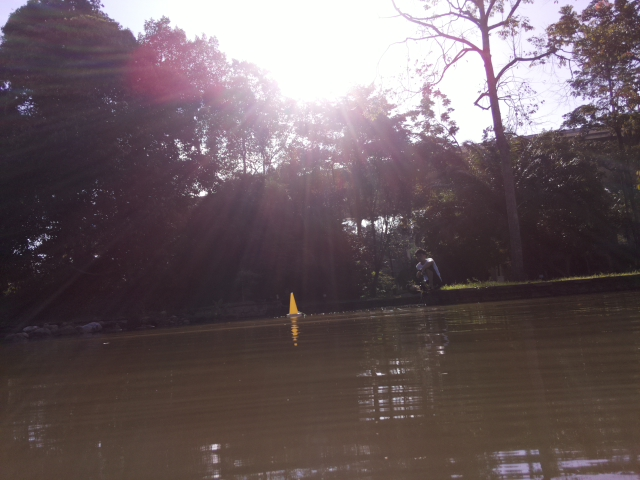checkpoint: (286, 291, 300, 316)
